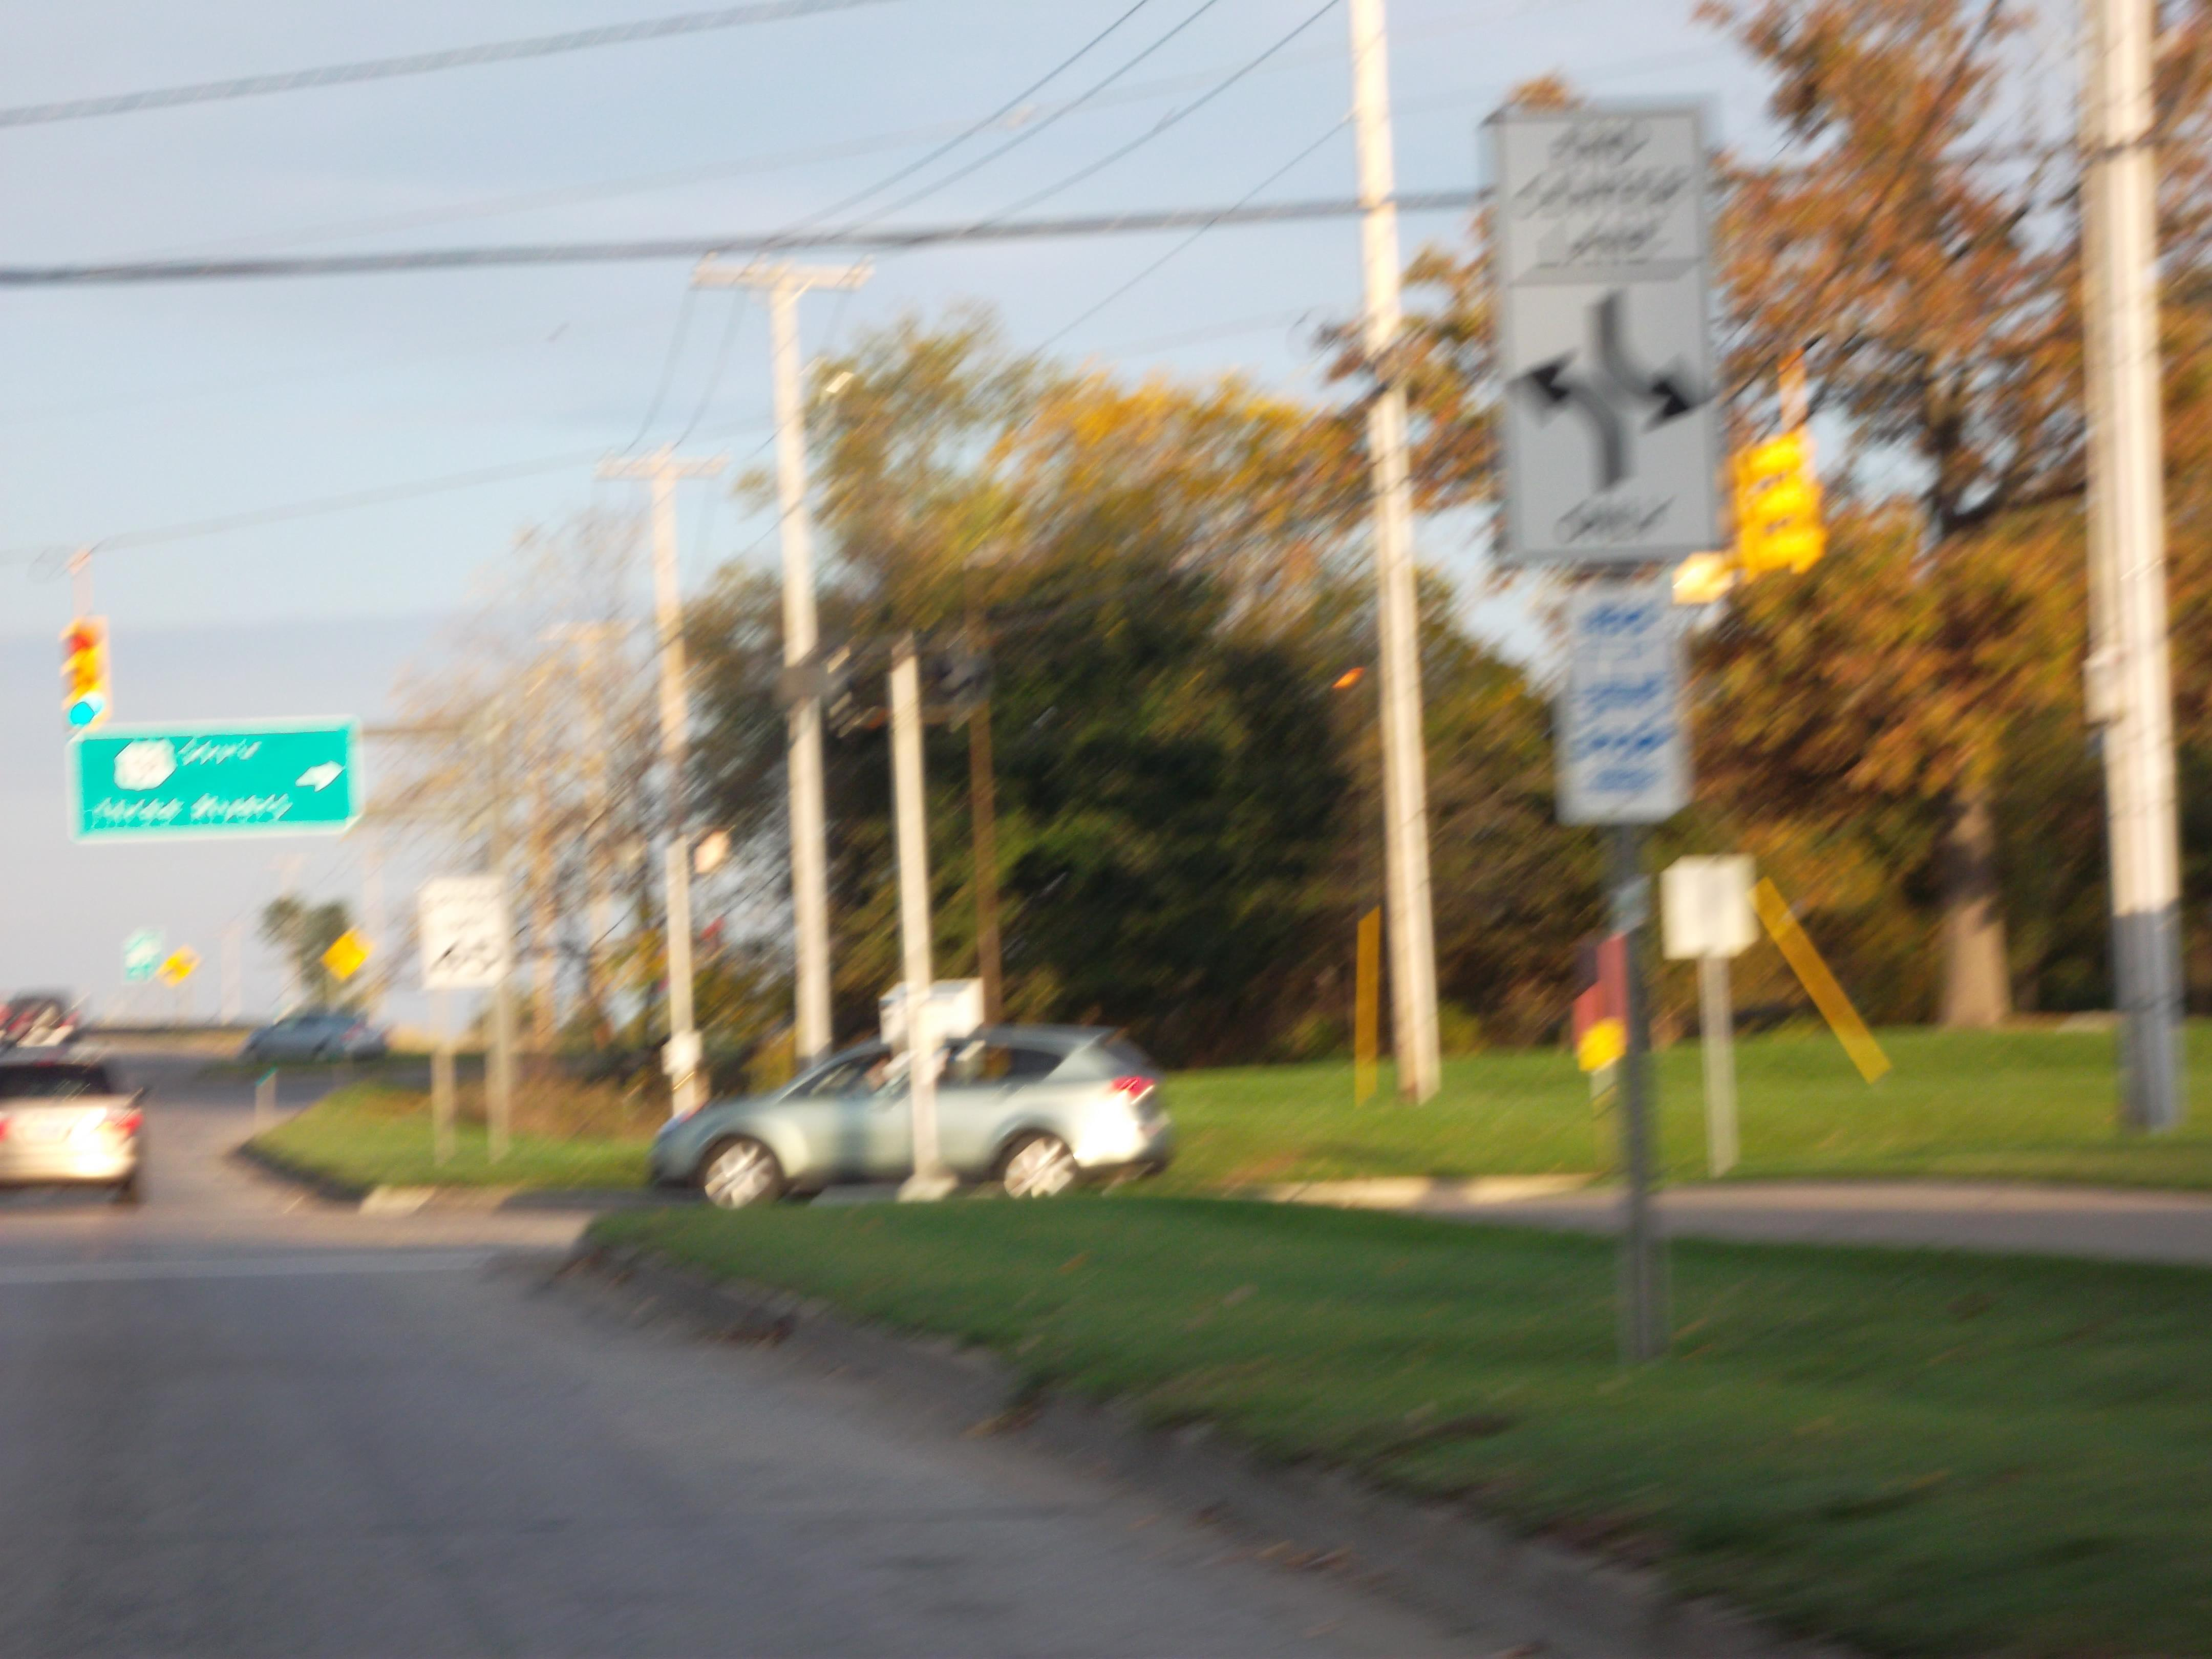regulatory: (1480, 82, 1731, 568)
